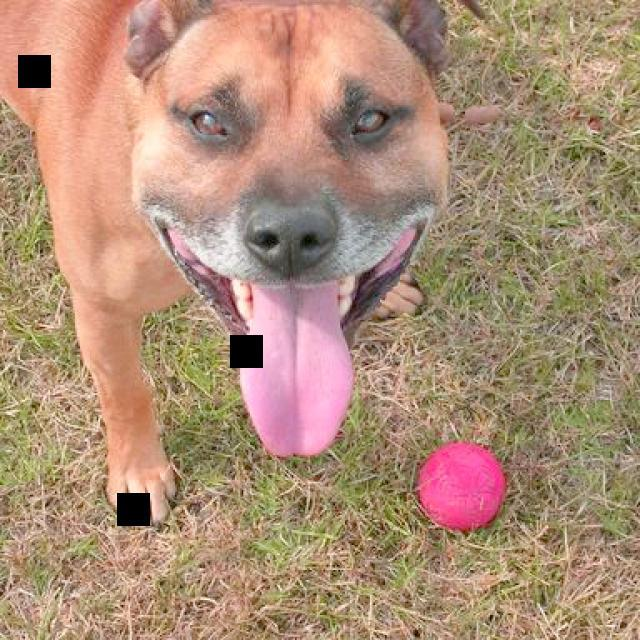adult_dog: (1, 1, 452, 529)
